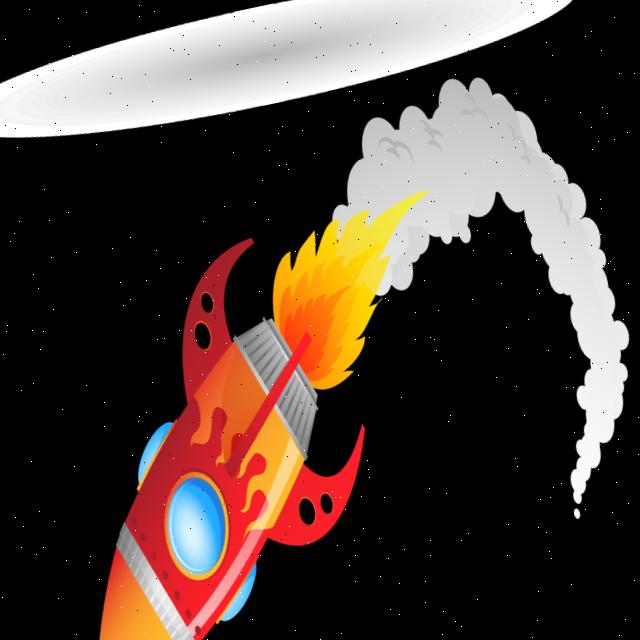rocket: (89, 223, 377, 640)
